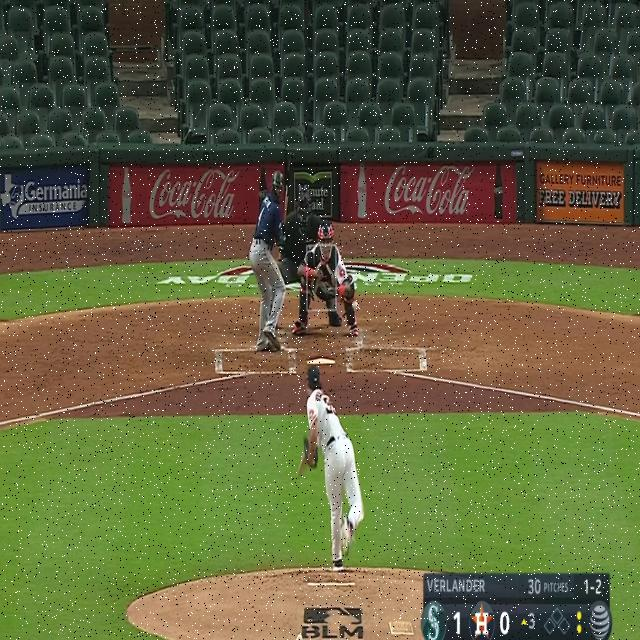baseball: (352, 300, 359, 310)
